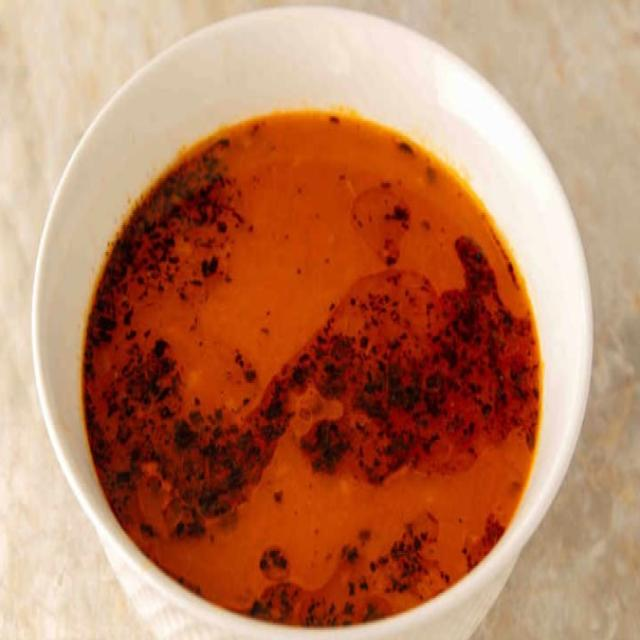corba: (29, 4, 594, 638)
